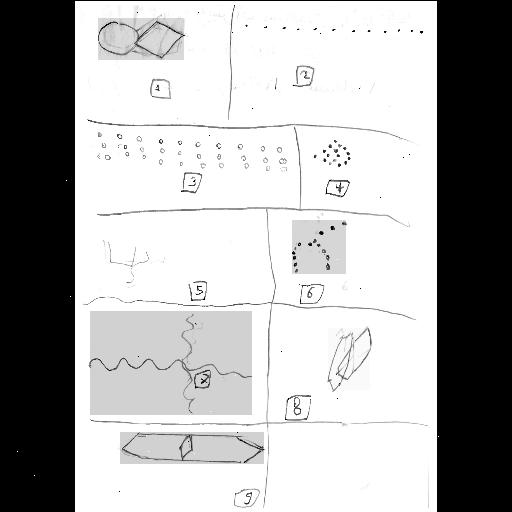shape-1: (98, 18, 184, 60)
shape-2: (245, 20, 425, 38)
shape-3: (98, 131, 286, 173)
shape-4: (312, 136, 352, 170)
shape-5: (108, 240, 150, 282)
shape-6: (292, 220, 346, 274)
shape-7: (90, 311, 252, 415)
shape-8: (328, 328, 370, 390)
shape-9: (120, 432, 264, 464)
